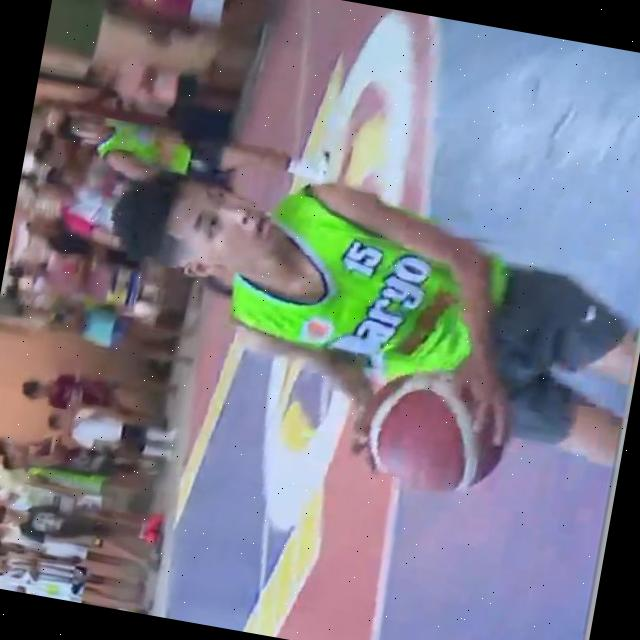ball: (335, 344, 532, 518)
